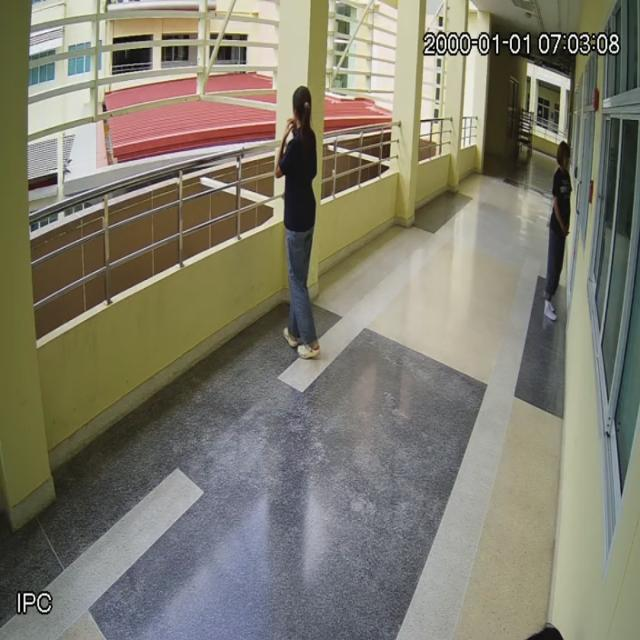normal: (276, 87, 320, 356), (542, 138, 575, 322)
